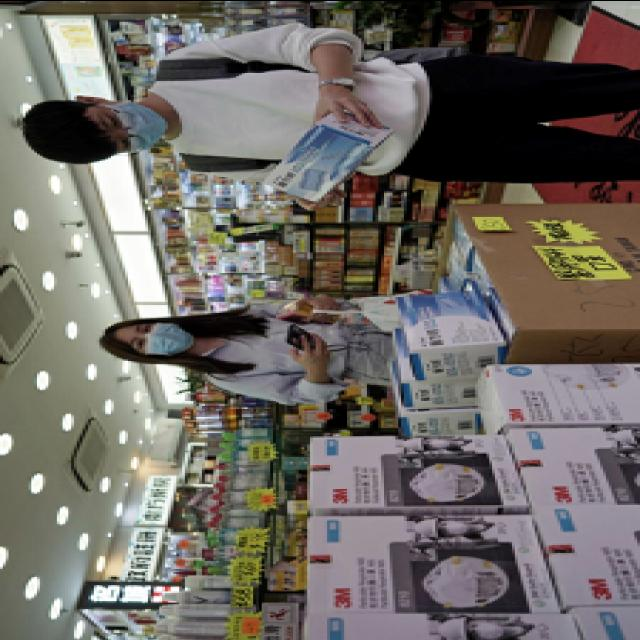with_mask: (88, 100, 168, 154), (128, 322, 196, 358)
